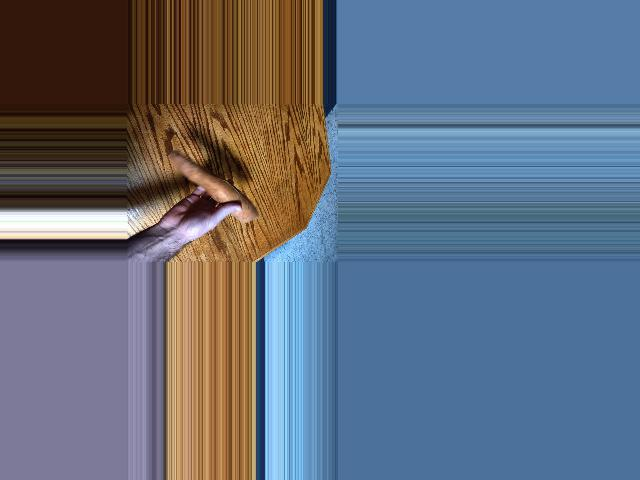sweet_potato: (169, 153, 250, 224)
